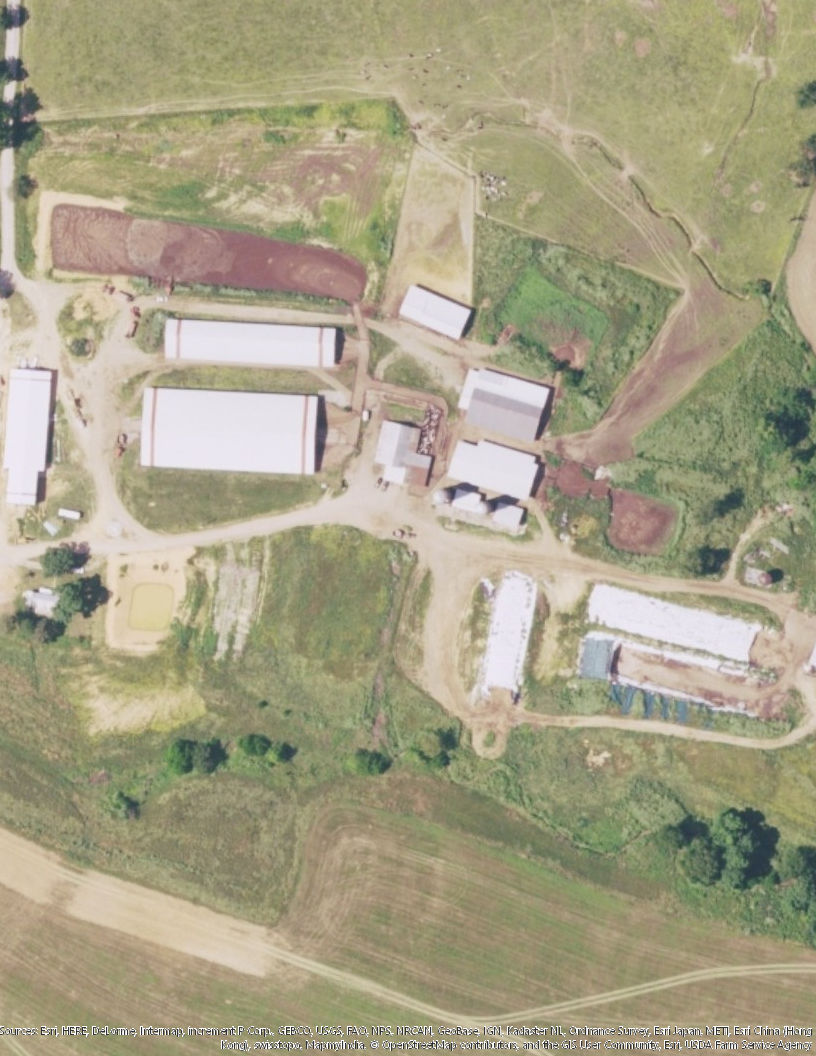cafo: (577, 577, 770, 677), (140, 378, 329, 480), (157, 309, 353, 375), (474, 559, 544, 698), (442, 435, 553, 518), (454, 360, 561, 441), (395, 275, 489, 346), (368, 406, 441, 494)
